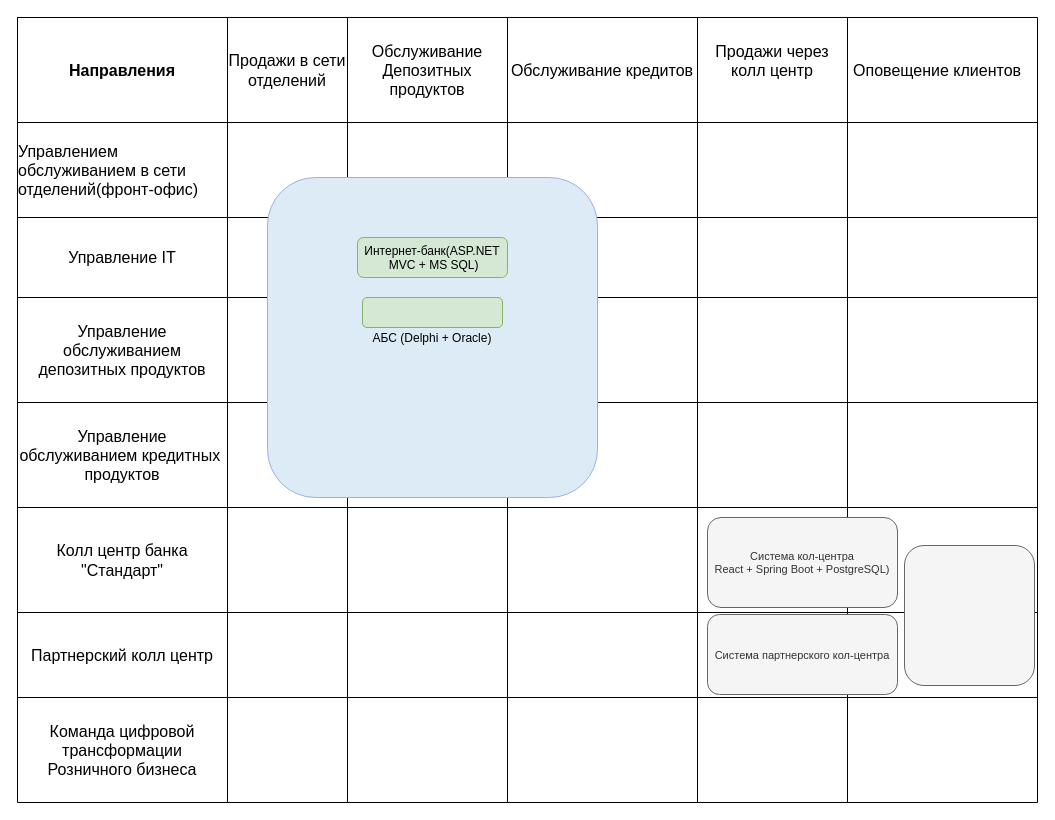
The diagram is 1055 pixels wide and 820 high, and some of its shapes have lost their labels. Here are the shapes that lost their labels. From the top down, the centre of each, then its label:
point 432,312: Сайт (PHP + React)
point 969,615: Телеком оператор(СМС)
